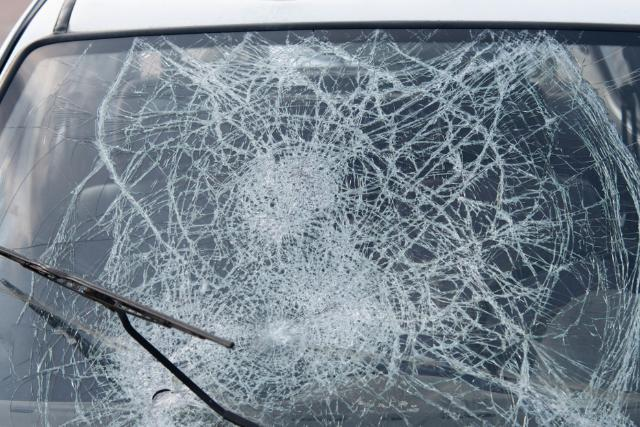Windshield: (0, 33, 640, 427)
